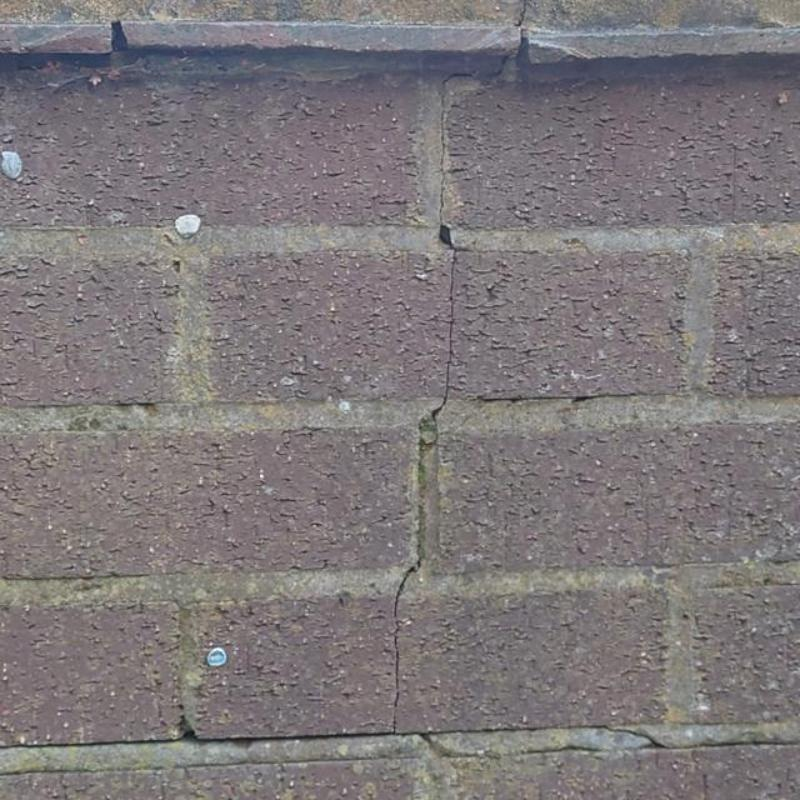pothole: (440, 55, 507, 211), (0, 730, 394, 750), (392, 716, 502, 759), (430, 252, 457, 424), (416, 437, 436, 567), (587, 725, 670, 750), (474, 394, 636, 404), (430, 725, 588, 735), (394, 566, 418, 618), (670, 740, 799, 749), (521, 745, 604, 754), (394, 624, 400, 708), (439, 224, 454, 250), (516, 0, 528, 28)
